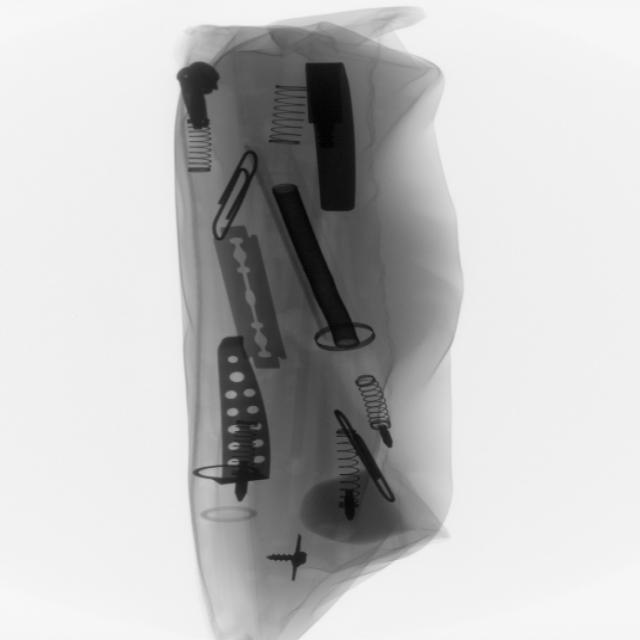BLADE: (213, 218, 288, 376)
